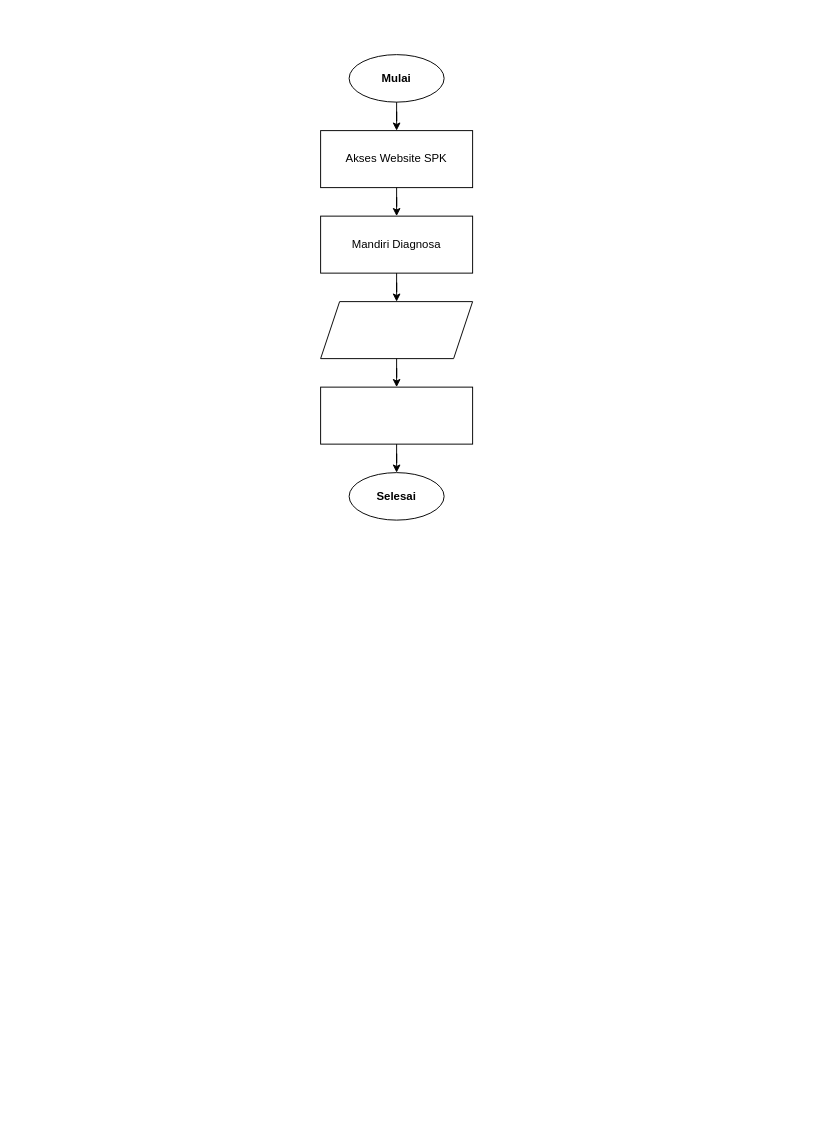
The diagram is 818 pixels wide and 1143 high, and some of its shapes have lost their labels. Here are the shapes that lost their labels. From the top down, the centre of each, then its label:
At point (396, 330): "Tampil Hasil Segera".
At point (396, 415): "Edukasi & Riwayat".
